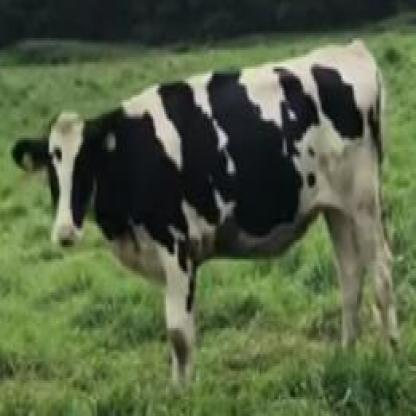cow: (12, 39, 398, 391)
